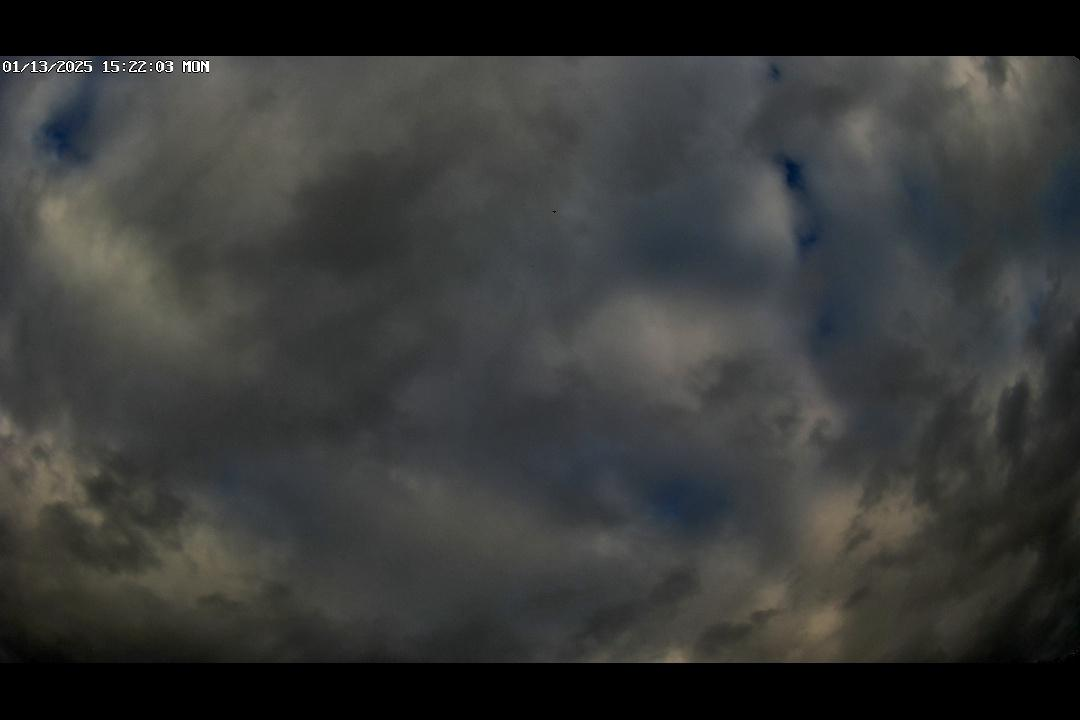WildLife: (546, 208, 565, 218)
